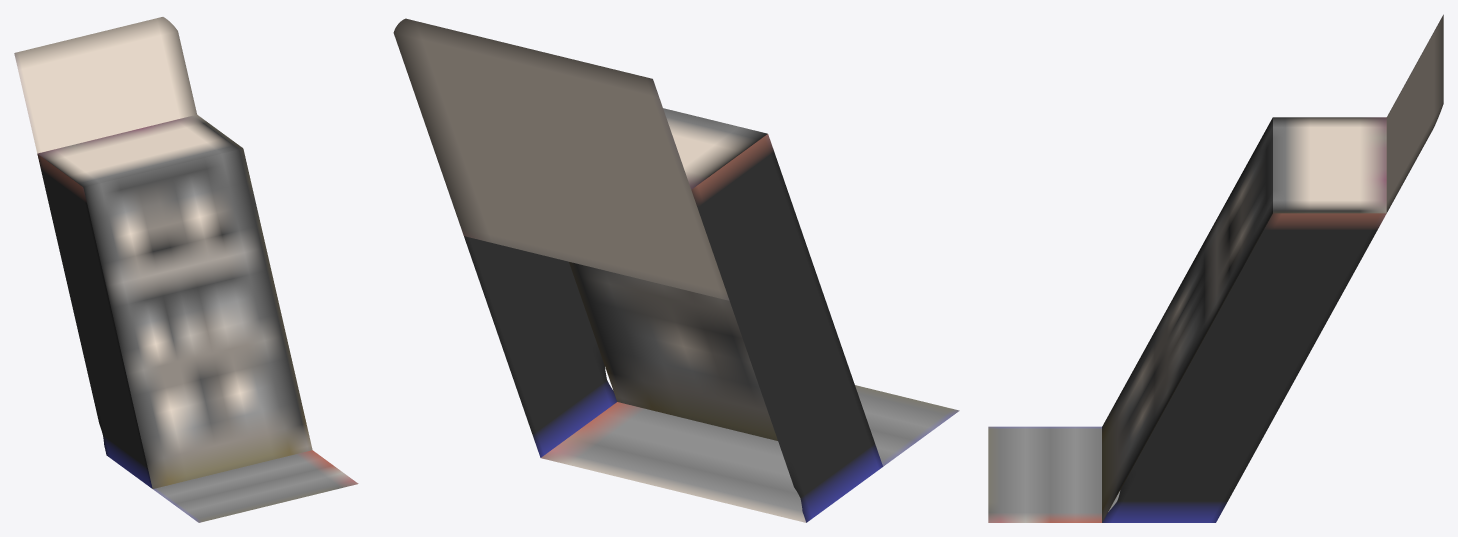
File: tile_lab_bookshelf_1.obj
3 views of the same model, side by side, from view 1: azimuth 30°, elevation 25°; view 2: azimuth 150°, elevation 25°; view 3: azimuth 270°, elevation 25° (orthographic). The views are drawn at different scales.
Visible parts, largest first — view 1: Default; view 2: Default; view 3: Default.
Boxes of the visible parts, left/top/right/bottom form: Default: left=14, top=17, right=358, bottom=522; Default: left=393, top=18, right=959, bottom=522; Default: left=988, top=14, right=1443, bottom=522.
Bounding box in the file's own units: 1 × 2 × 2.
